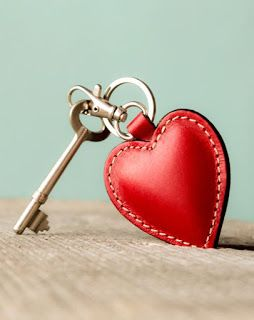cuero: (103, 109, 231, 249)
